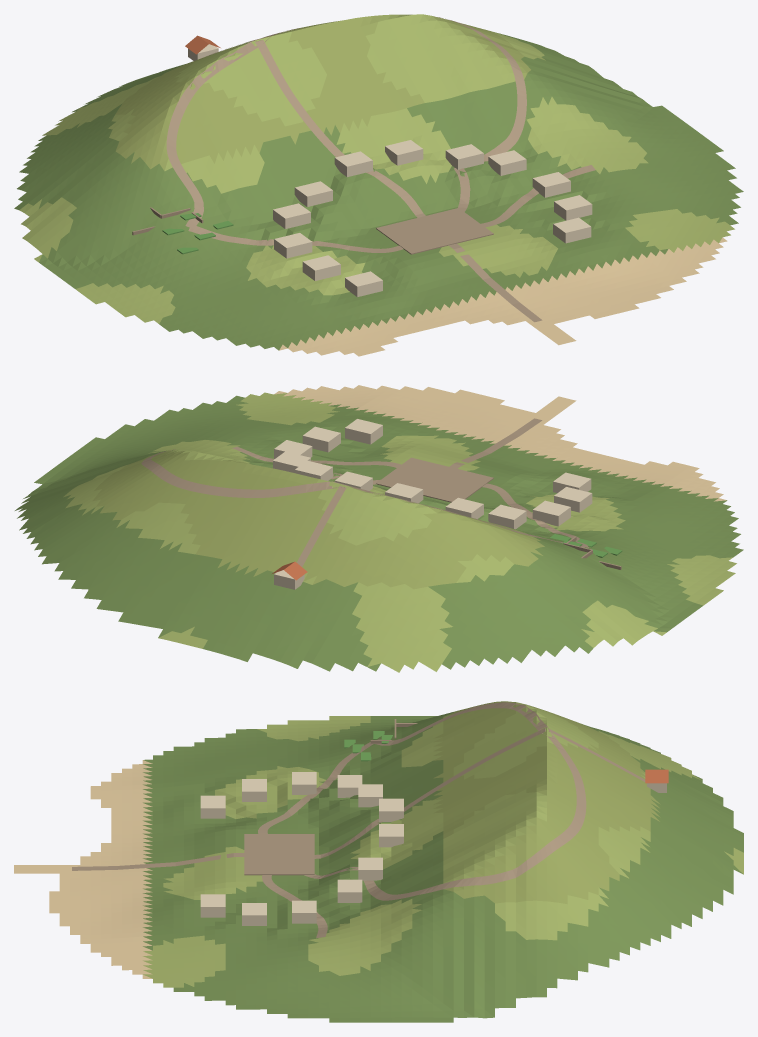
The model's file is Ilha_Relevo_004.fbx.
The picture shows the model from 3 angles, top to bottom: view 1: azimuth 30°, elevation 25°; view 2: azimuth 150°, elevation 25°; view 3: azimuth 270°, elevation 25°; orthographic projection.
Visible parts, largest first — view 1: Terrain_004_Walkable_Island, Largo_004, Path_West_Return, Path_North_Ridge, Path_Back_Overlook, Path_West_Horta_Ruins, Path_Cais_Plaza, B3, L1, B2, L2, L3 (+8 smaller); view 2: Terrain_004_Walkable_Island, Largo_004, Path_Back_Overlook, L1, B3, L2, B4, Path_Casa_Recanto, B2, Path_Cais_Plaza, Path_West_Horta_Ruins, B1 (+5 smaller); view 3: Terrain_004_Walkable_Island, Largo_004, Path_Back_Overlook, Path_North_Ridge, Path_West_Return, Path_West_Horta_Ruins, Path_Cais_Plaza, L1, B1, L4, L3, A4 (+7 smaller).
Boxes of the visible parts, box(x1,y1,x2,y2) form: Terrain_004_Walkable_Island: box(14, 14, 743, 356); Largo_004: box(376, 208, 493, 254); Path_West_Return: box(166, 40, 257, 228); Path_North_Ridge: box(255, 40, 425, 217); Path_Back_Overlook: box(256, 17, 526, 168); Path_West_Horta_Ruins: box(188, 226, 403, 252); Path_Cais_Plaza: box(448, 243, 542, 322); B3: box(274, 233, 312, 258); L1: box(553, 217, 591, 243); B2: box(302, 255, 340, 280); L2: box(554, 195, 592, 220); L3: box(532, 172, 570, 197); Terrain_004_Walkable_Island: box(15, 385, 743, 672); Largo_004: box(376, 457, 493, 502); Path_Back_Overlook: box(141, 449, 344, 497); L1: box(345, 419, 382, 444); B3: box(532, 500, 570, 526); L2: box(302, 426, 340, 452); B4: box(488, 504, 526, 529); Path_Casa_Recanto: box(296, 484, 348, 566); B2: box(554, 487, 592, 512); Path_Cais_Plaza: box(449, 418, 542, 468); Path_West_Horta_Ruins: box(482, 483, 588, 547); B1: box(553, 472, 591, 492); Terrain_004_Walkable_Island: box(14, 701, 743, 1022); Largo_004: box(244, 834, 314, 875); Path_Back_Overlook: box(364, 729, 586, 900); Path_North_Ridge: box(314, 728, 544, 858); Path_West_Return: box(374, 702, 548, 745); Path_West_Horta_Ruins: box(258, 742, 373, 833); Path_Cais_Plaza: box(72, 853, 244, 870); L1: box(200, 894, 225, 917); B1: box(200, 795, 225, 818); L4: box(337, 879, 362, 902); L3: box(292, 900, 316, 923); A4: box(358, 857, 382, 880).
Size of the model in its own units: 175 by 31.71 by 176.
